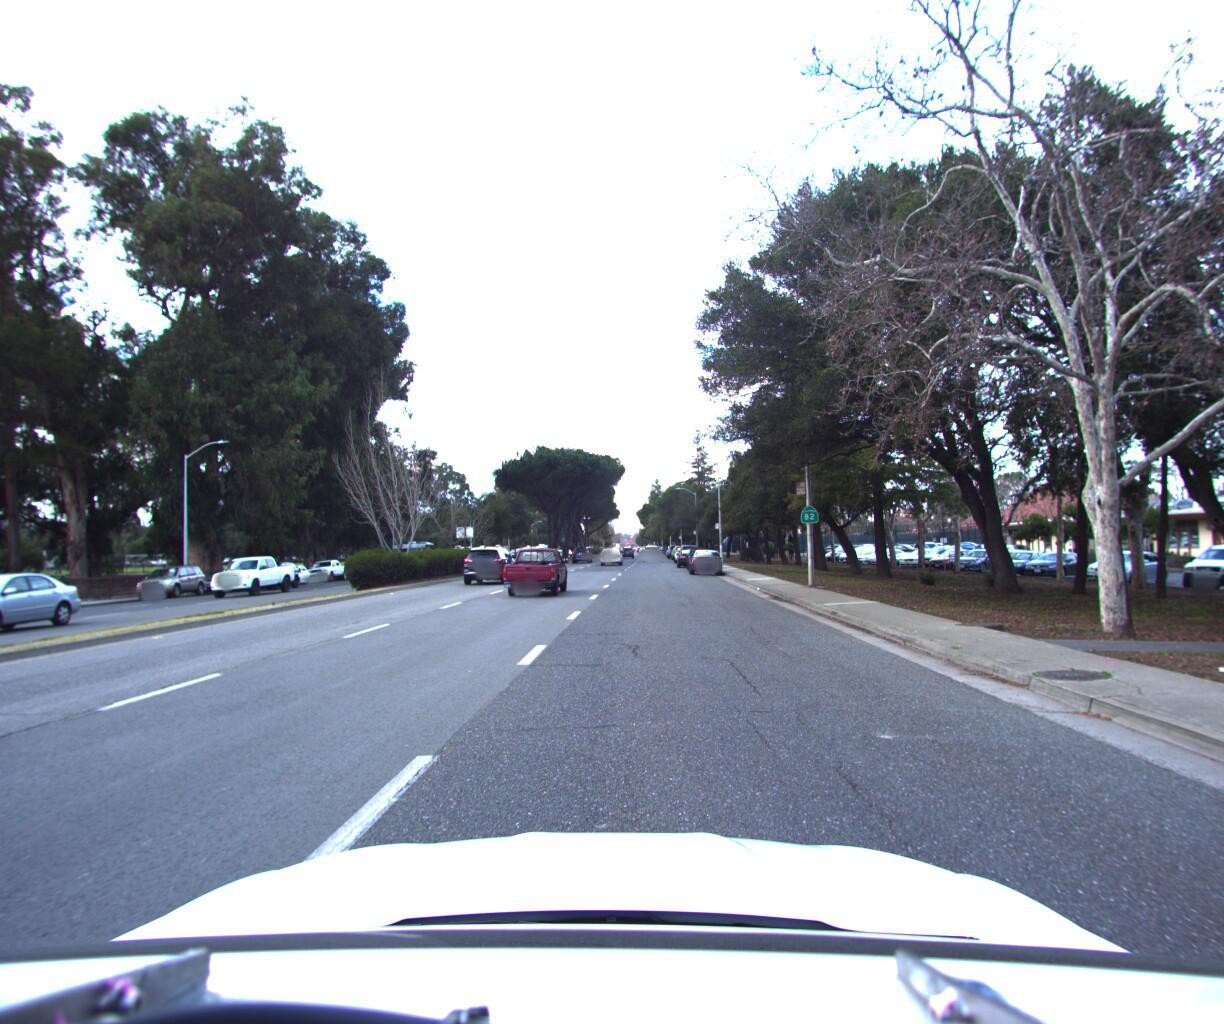car: (0, 562, 98, 639), (202, 552, 300, 599), (495, 541, 570, 595), (130, 559, 213, 599), (460, 541, 521, 581), (269, 558, 323, 584), (302, 554, 352, 581), (685, 541, 722, 571), (0, 568, 7, 703), (599, 539, 623, 562), (673, 543, 698, 562), (641, 538, 660, 555)
